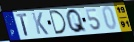0: (102, 6, 118, 31)
5: (84, 8, 102, 31)
D: (48, 9, 67, 35)
K: (31, 12, 50, 36)
Q: (65, 8, 88, 34)
T: (15, 13, 30, 37)
